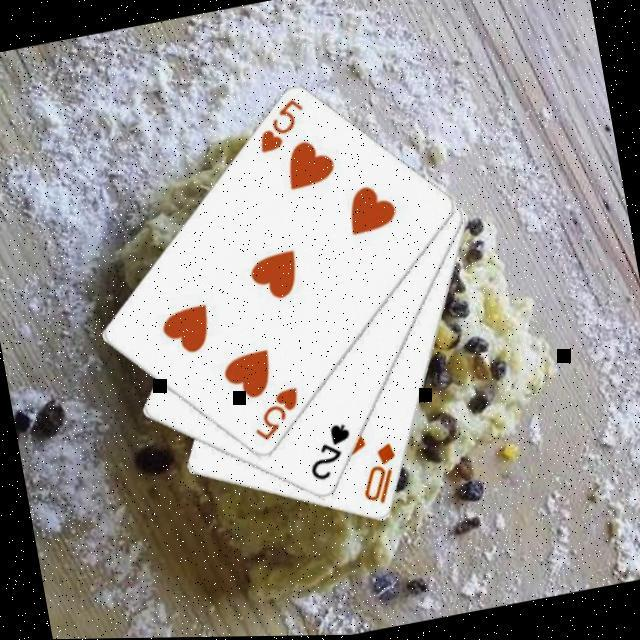10D: (354, 439, 408, 511)
2S: (301, 418, 360, 486)
5H: (246, 382, 309, 446), (250, 94, 313, 158)
